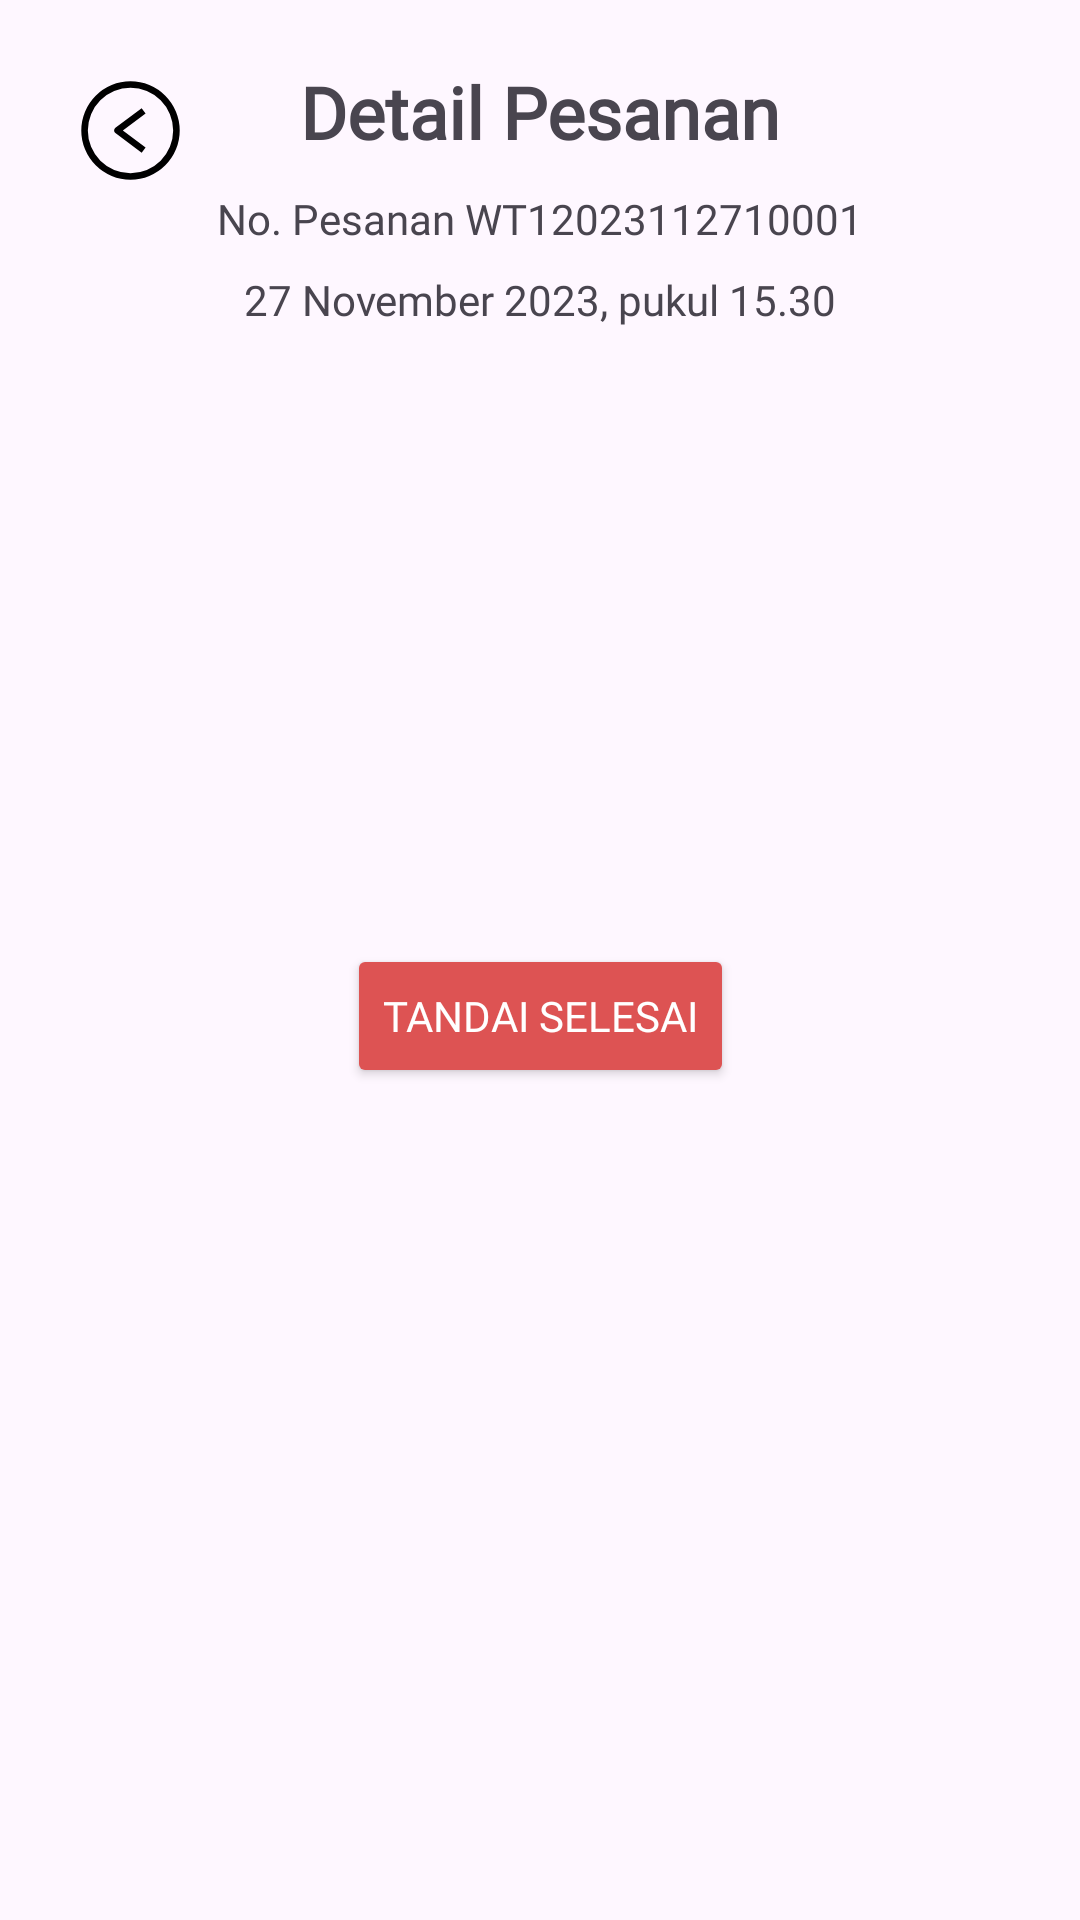

Screen size 1080 x 1920. Icon name, then its box in pixels as {"x1": x1, "y1": y1, "x2": x2, "y2": y2}:
Kembali: {"x1": 81, "y1": 81, "x2": 180, "y2": 180}
